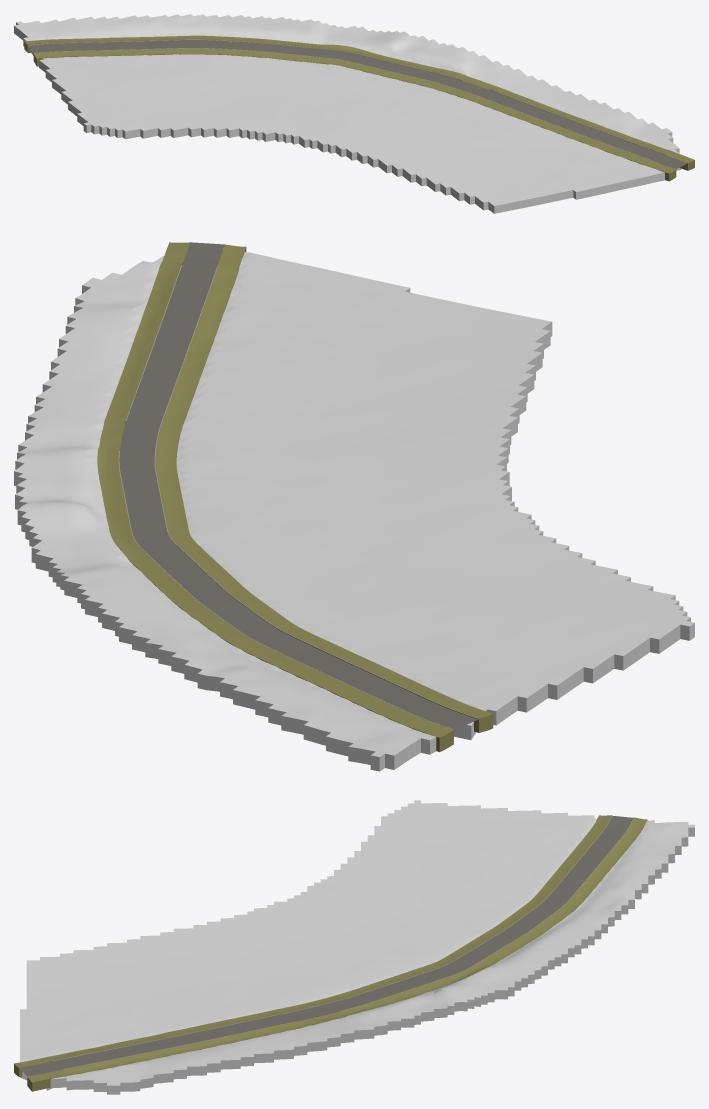
File: conz_92.glb
The picture shows the model from 3 angles, top to bottom: view 1: azimuth 30°, elevation 25°; view 2: azimuth 150°, elevation 25°; view 3: azimuth 270°, elevation 25°; orthographic projection. The views are drawn at different scales.
Parts seen in each view (by area): view 1: terrain92, road92, verge92L, verge92R, kerb92_110102, kerb92_110012; view 2: terrain92, road92, verge92R, verge92L, kerb92_110012; view 3: terrain92, road92, verge92R, verge92L, kerb92_110012.
Boxes of the visible parts, box(x1,y1,x2,y2) form: terrain92: box(14, 14, 681, 213); road92: box(28, 40, 687, 169); verge92L: box(33, 48, 676, 181); verge92R: box(24, 35, 694, 170); kerb92_110102: box(28, 39, 458, 79); kerb92_110012: box(34, 48, 651, 160); terrain92: box(14, 252, 694, 771); road92: box(119, 242, 477, 729); verge92R: box(97, 242, 453, 752); verge92L: box(155, 244, 493, 732); kerb92_110012: box(154, 267, 478, 720); terrain92: box(20, 800, 694, 1094); road92: box(19, 816, 633, 1076); verge92R: box(27, 817, 647, 1091); verge92L: box(14, 815, 611, 1076); kerb92_110012: box(53, 815, 612, 1061).
Size of the model in its own units: 184 by 14.53 by 204.
